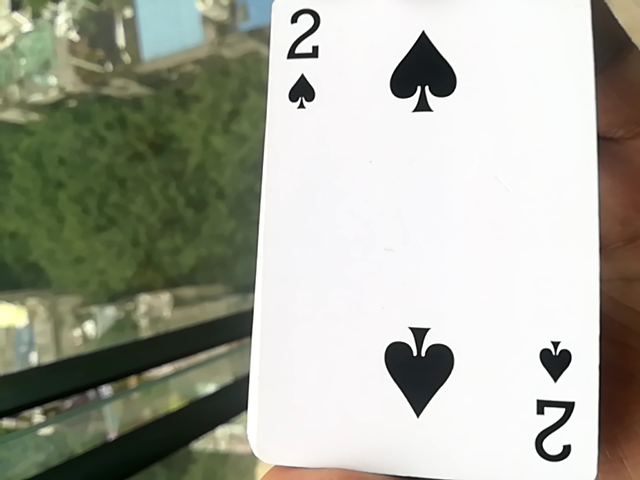ht 2: (239, 7, 611, 480)
